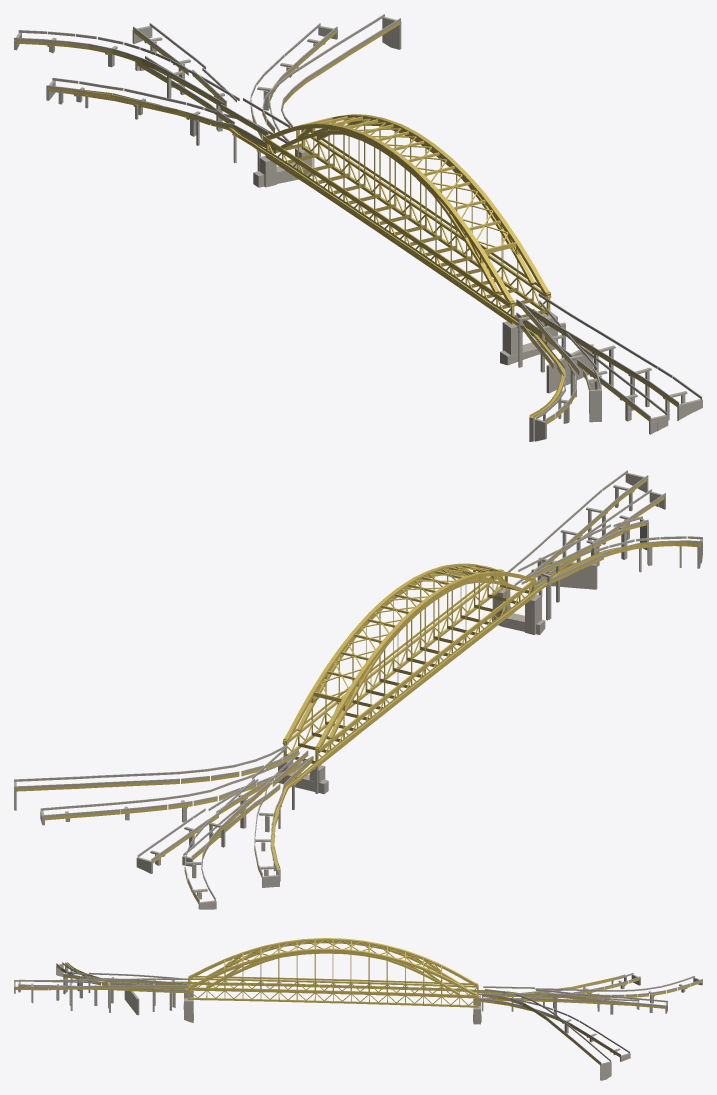
The model's file is pit-fort-pitt-bridge.detail.glb.
The picture shows the model from 3 angles, top to bottom: view 1: azimuth 30°, elevation 25°; view 2: azimuth 150°, elevation 25°; view 3: azimuth 270°, elevation 25°; orthographic projection. The views are drawn at different scales.
Visible parts, largest first — view 1: Fort Pitt Bridge; view 2: Fort Pitt Bridge; view 3: Fort Pitt Bridge.
Part boxes in pixels (<box>): Fort Pitt Bridge: <box>14,14,702,441</box>; Fort Pitt Bridge: <box>14,470,702,909</box>; Fort Pitt Bridge: <box>14,938,702,1080</box>.
Size of the model in its own units: 177 by 64.51 by 547.
